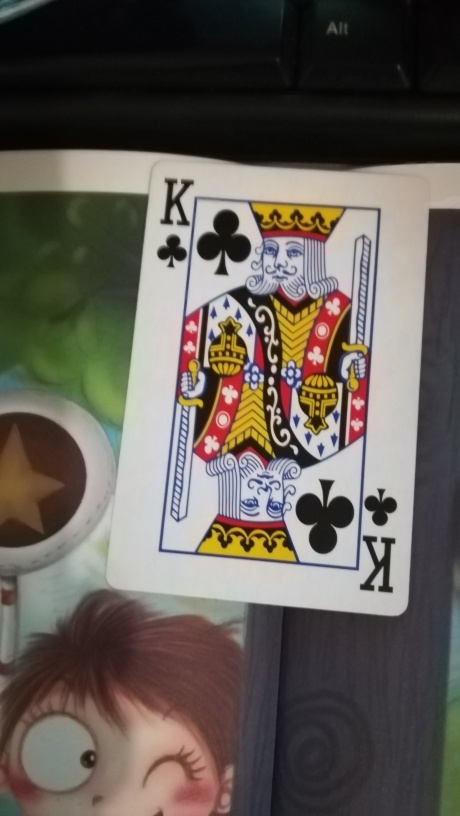mh k: (106, 158, 434, 620)
